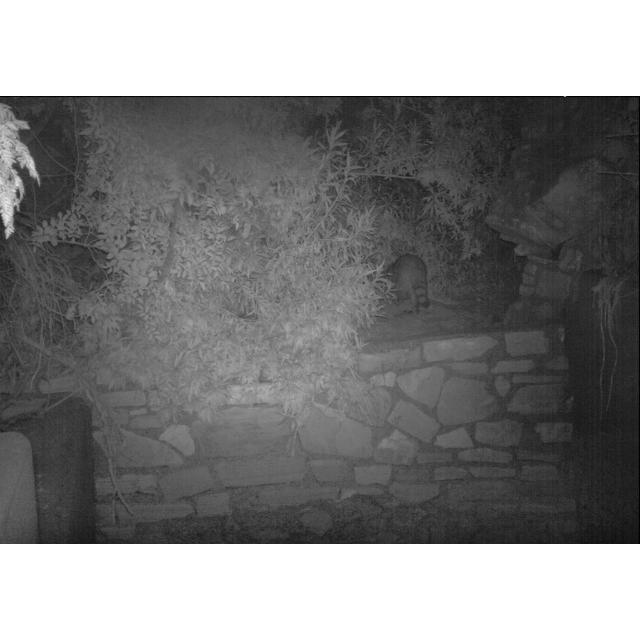animals: (383, 248, 433, 316)
